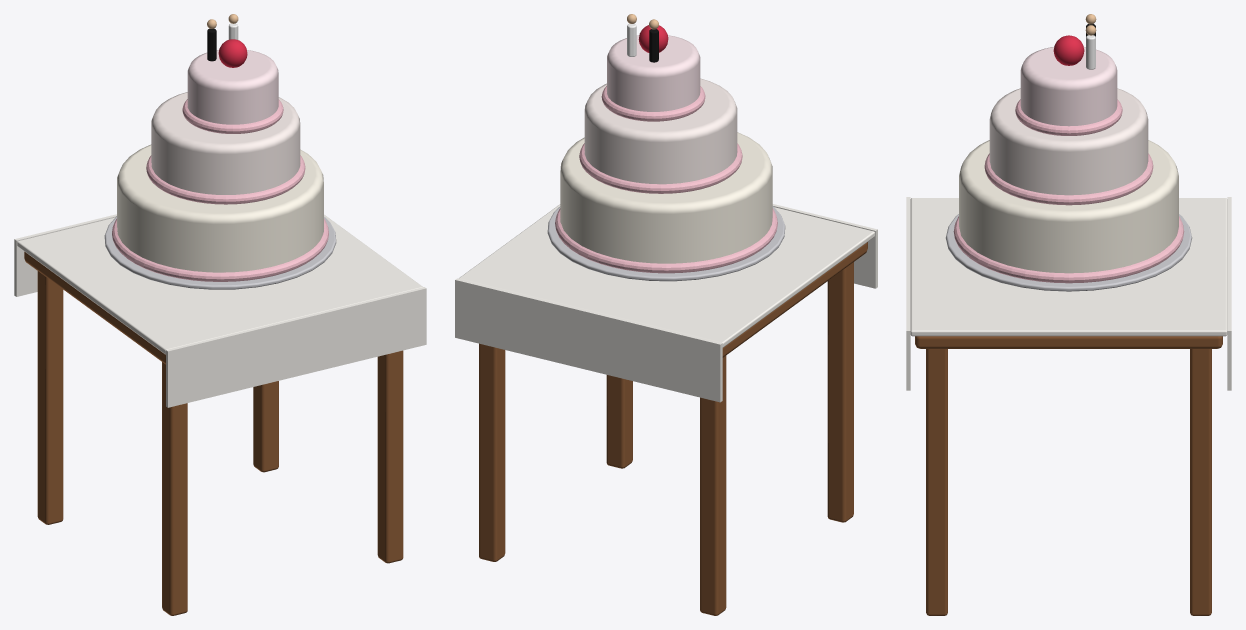
File: wedding_cake.glb
The picture shows the model from 3 angles, left to right: view 1: azimuth 30°, elevation 25°; view 2: azimuth 150°, elevation 25°; view 3: azimuth 270°, elevation 25°; orthographic projection. The views are drawn at different scales.
Visible parts, largest first — view 1: Cube.005, Cylinder.002, Cube.007, Cylinder.003, Cube.001, Cylinder.004, Cube.004, Cube.003, Cylinder.001, Torus, Cube.002, Torus.001 (+4 smaller); view 2: Cube.005, Cylinder.002, Cube.006, Cylinder.003, Cube.003, Cube.001, Cylinder.004, Cube.002, Cylinder.001, Torus, Cube.004, Torus.001 (+3 smaller); view 3: Cube.005, Cylinder.002, Cylinder.003, Cylinder.004, Cube.002, Cube.004, Cube, Cylinder.001, Torus, Torus.001, Torus.002, Cube.006 (+2 smaller).
Boxes of the visible parts, x1,y1,x2,y2 form: Cube.005: (17, 214, 422, 354); Cylinder.002: (117, 144, 323, 272); Cube.007: (166, 287, 426, 407); Cylinder.003: (151, 92, 300, 194); Cube.001: (37, 271, 63, 524); Cylinder.004: (187, 50, 278, 124); Cube.004: (377, 350, 403, 563); Cube.003: (162, 362, 187, 615); Cylinder.001: (104, 216, 336, 289); Torus: (112, 218, 328, 281); Cube.002: (253, 381, 278, 472); Torus.001: (146, 155, 305, 204); Cube.005: (459, 204, 874, 347); Cylinder.002: (560, 132, 772, 263); Cube.006: (455, 278, 722, 402); Cylinder.003: (584, 78, 737, 184); Cube.003: (827, 262, 853, 522); Cube.001: (700, 355, 726, 615); Cylinder.004: (607, 35, 700, 111); Cube.002: (479, 343, 505, 561); Cylinder.001: (547, 206, 785, 281); Torus: (555, 208, 777, 273); Cube.004: (606, 375, 632, 468); Torus.001: (579, 143, 742, 193); Cube.005: (910, 198, 1227, 336); Cylinder.002: (959, 140, 1178, 273); Cylinder.003: (989, 88, 1148, 195); Cylinder.004: (1020, 47, 1117, 126); Cube.002: (1190, 349, 1211, 615); Cube.004: (926, 349, 947, 615); Cube: (915, 336, 1222, 348); Cylinder.001: (945, 214, 1192, 291); Torus: (953, 216, 1184, 283); Torus.001: (984, 153, 1153, 205); Torus.002: (1015, 99, 1122, 135); Cube.006: (1227, 197, 1231, 390).
Bounding box in the file's own units: 0.72 × 1.36 × 0.74.
